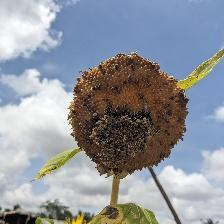sunflower: (69, 53, 191, 179)
